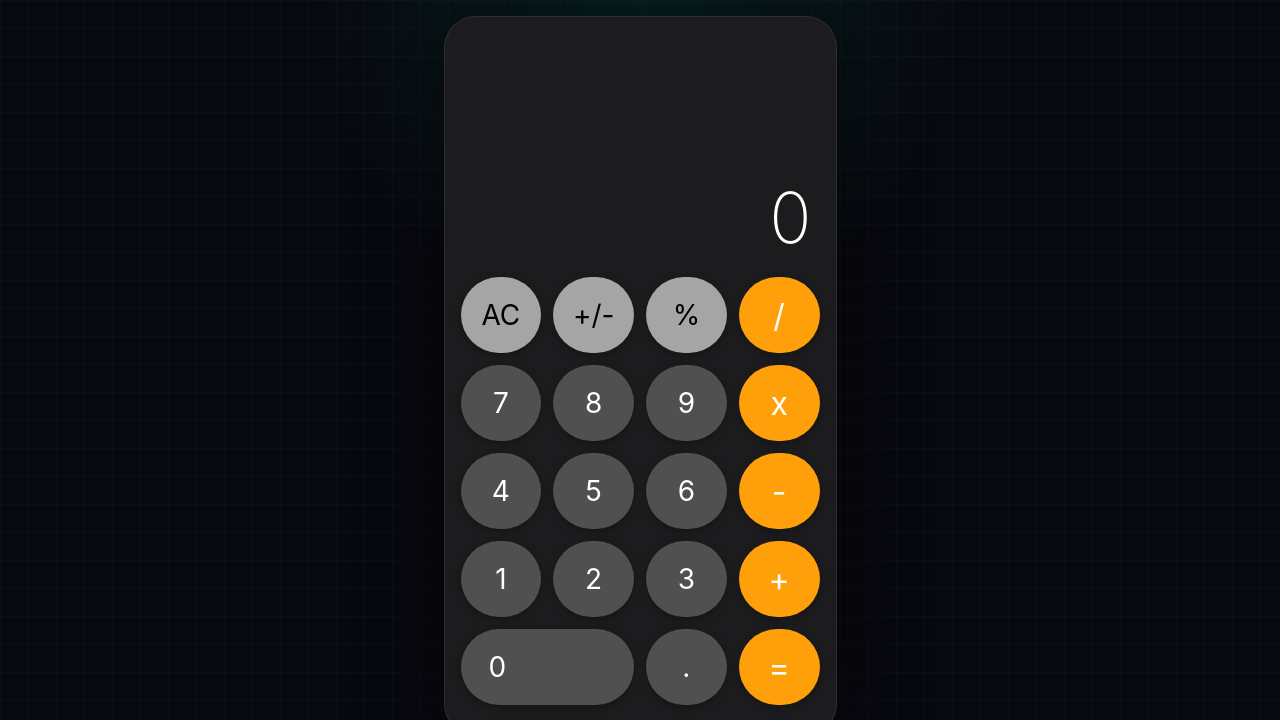
Test case: CalculatorDecoy › 四則演算が正しい
Click the button "1".
click(501, 579)  # box [460, 541, 541, 617]
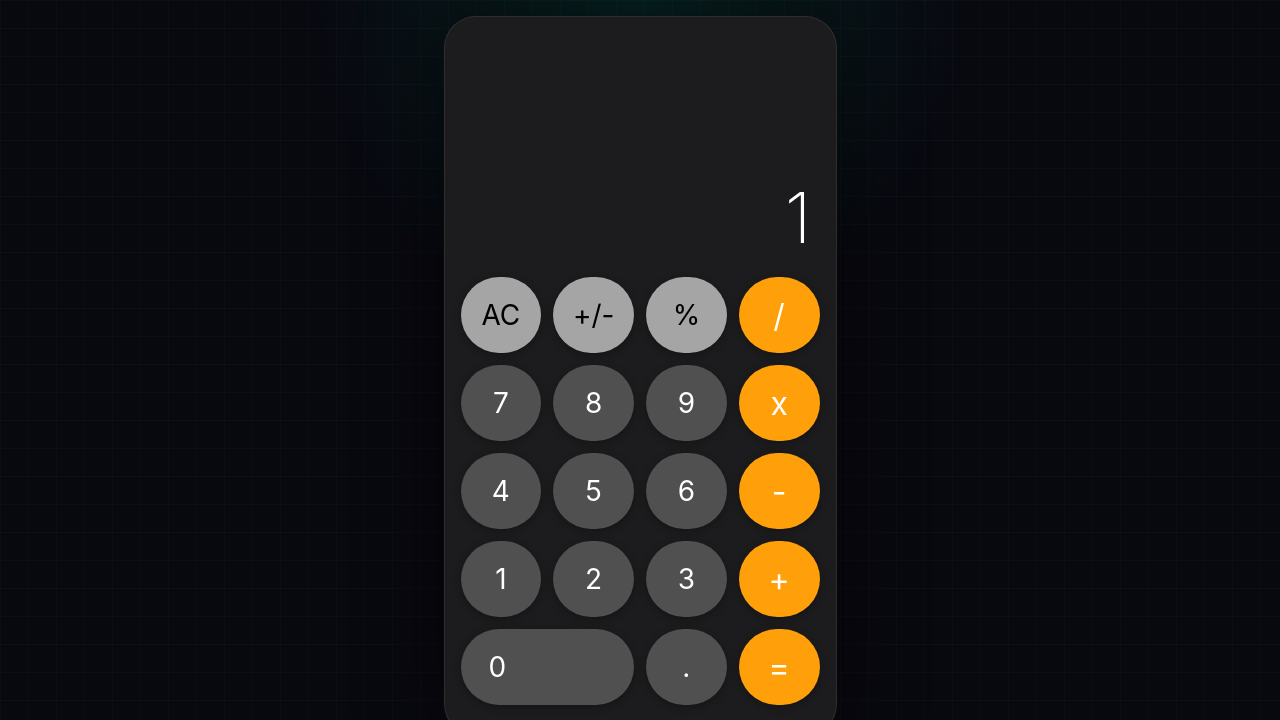
Click the button "+".
click(779, 579)  # box [739, 541, 820, 617]
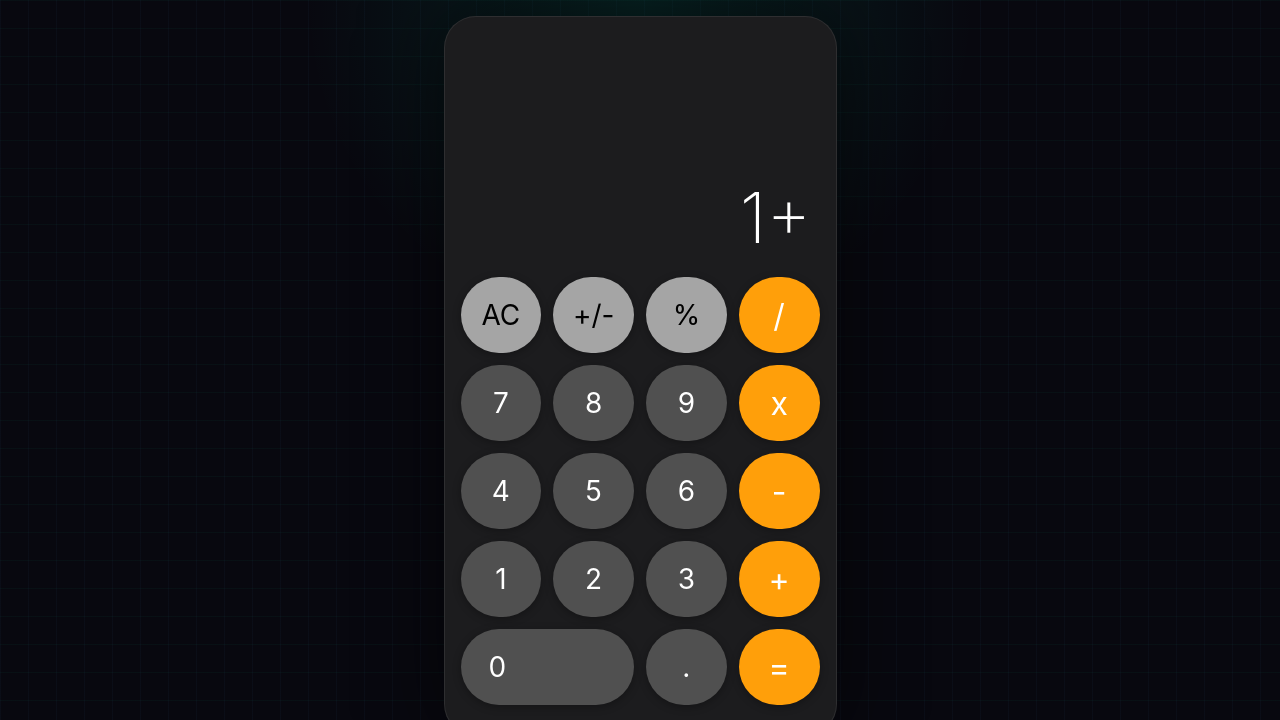
Click the button "2".
click(594, 579)  # box [553, 541, 634, 617]
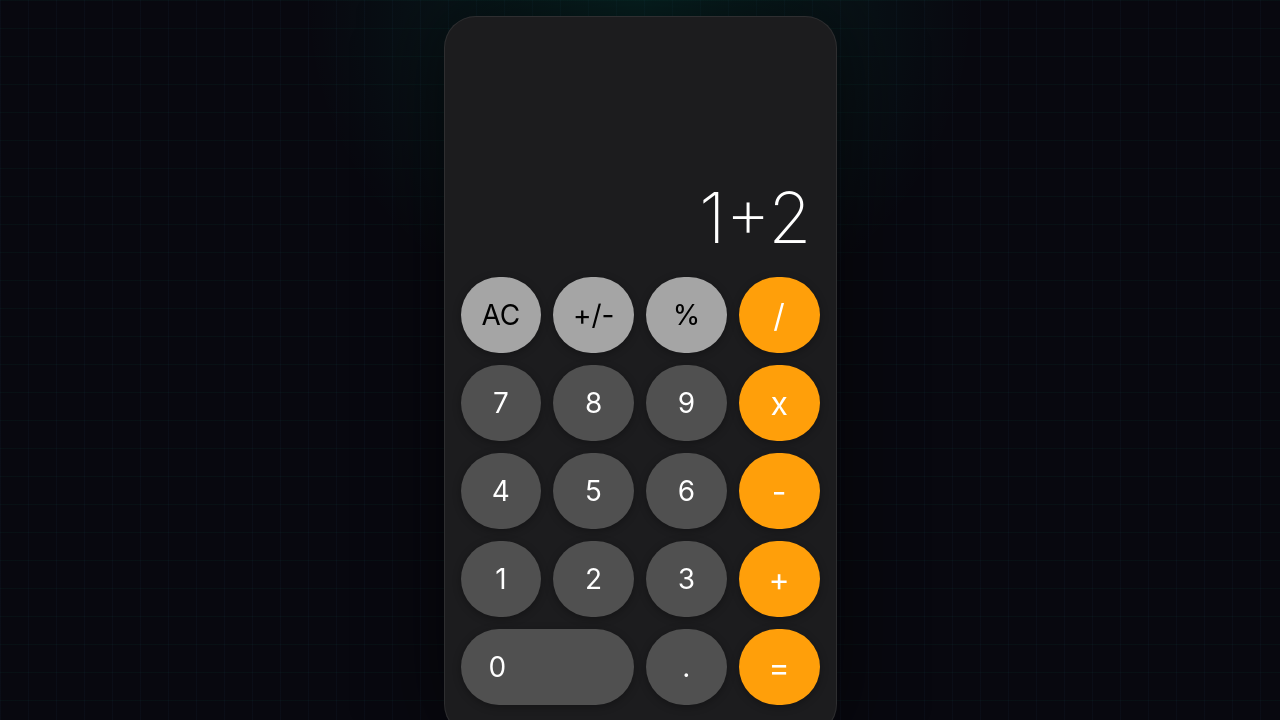
Click the button "=".
click(779, 667)  # box [739, 629, 820, 705]
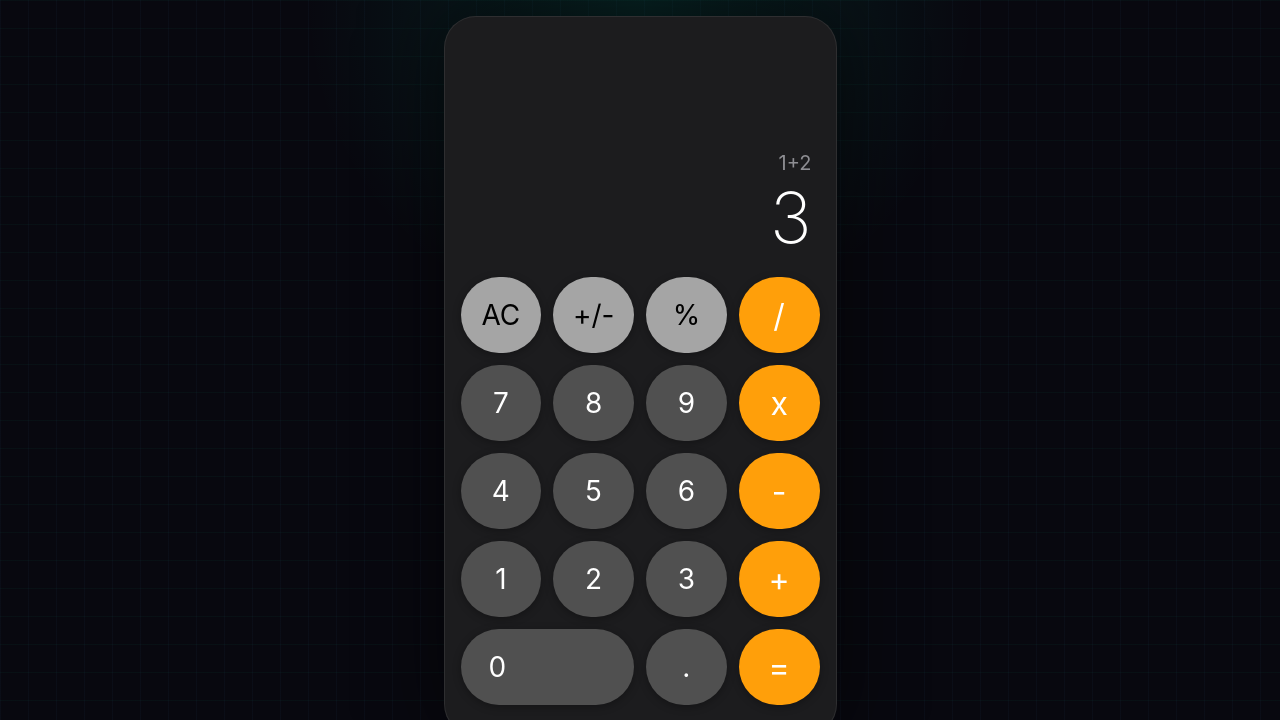
Now the text "3" is shown, box [770, 183, 812, 253]
